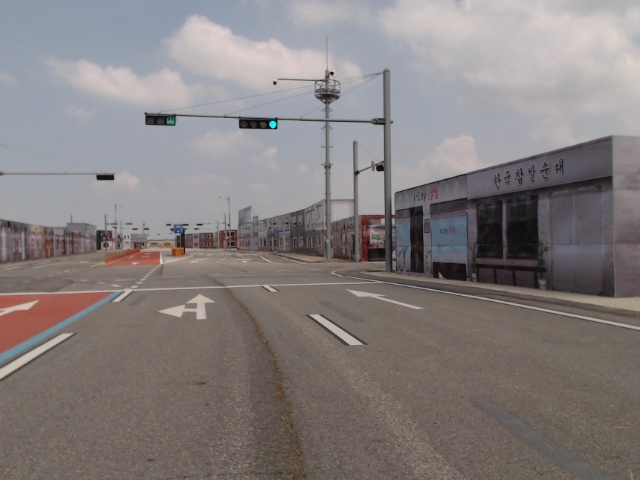straight_green_4: (238, 116, 279, 129)
